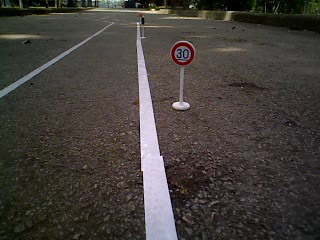limit 30: (170, 39, 198, 68)
